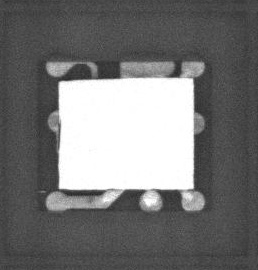DIE_BROKEN: (57, 122, 62, 150)
